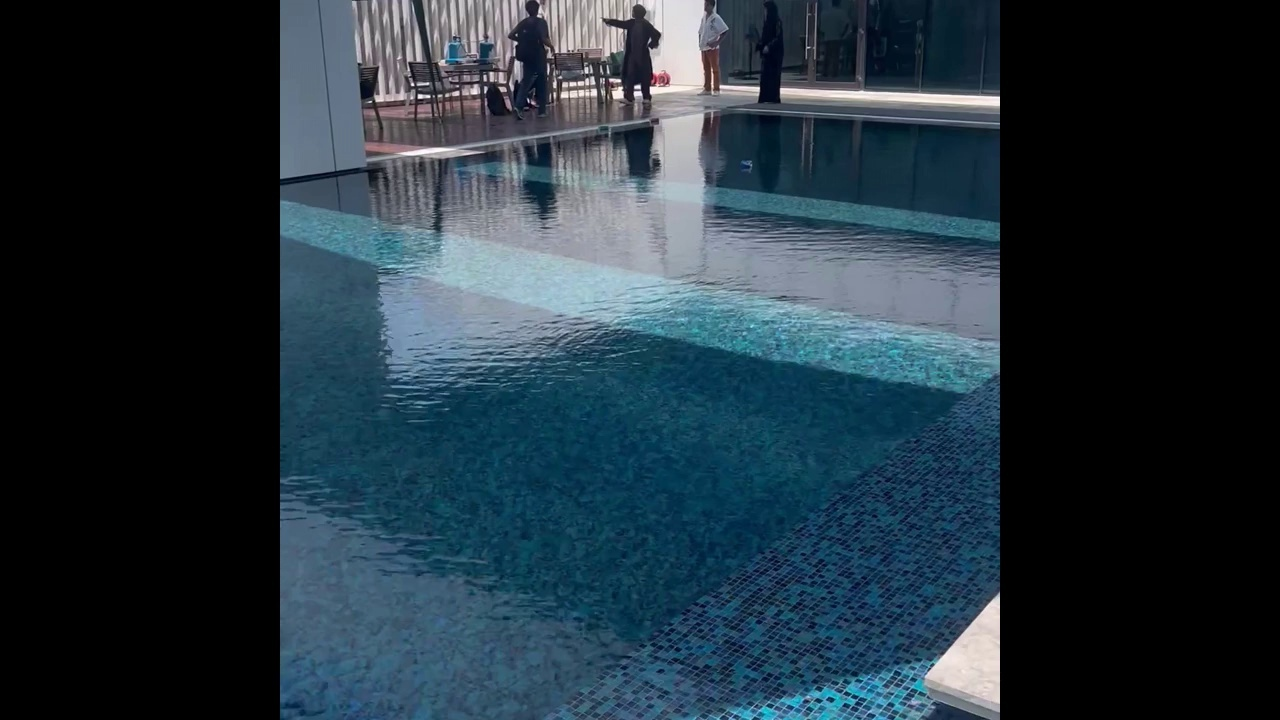debris: (734, 159, 754, 173), (594, 123, 613, 135), (647, 114, 660, 127)
